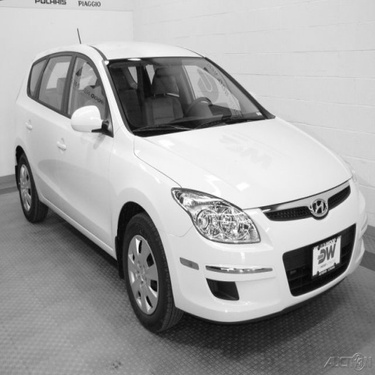car: (10, 26, 371, 335)
